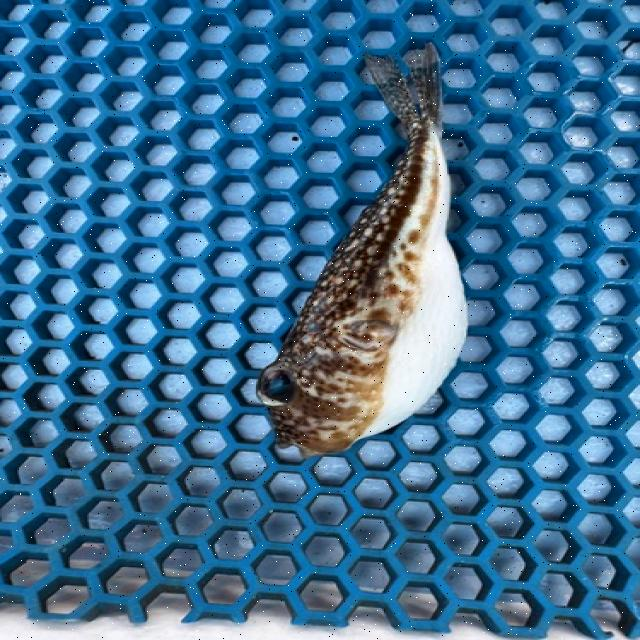Balik: (258, 45, 467, 455)
